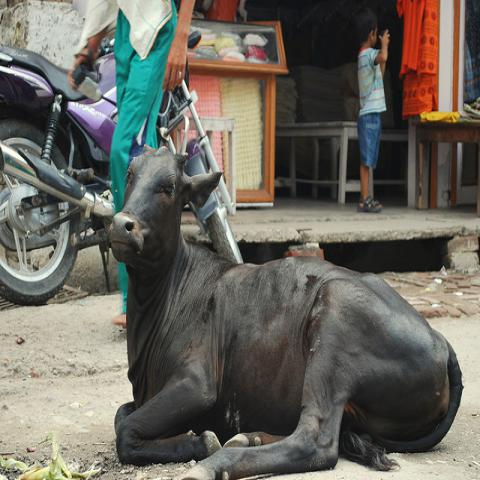motorcycle: (1, 22, 245, 300)
